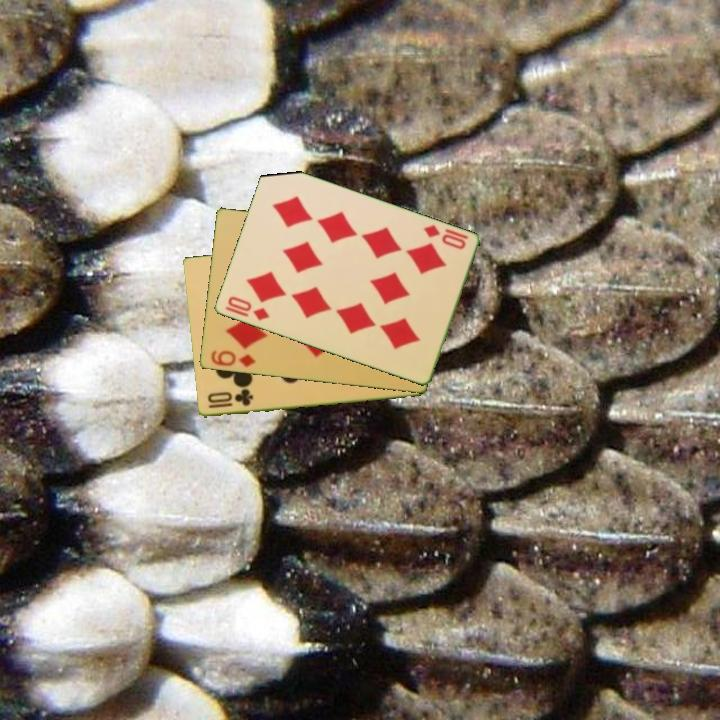10c: (204, 387, 256, 411)
10d: (419, 221, 468, 252), (224, 293, 272, 324)
6d: (207, 347, 258, 370)
